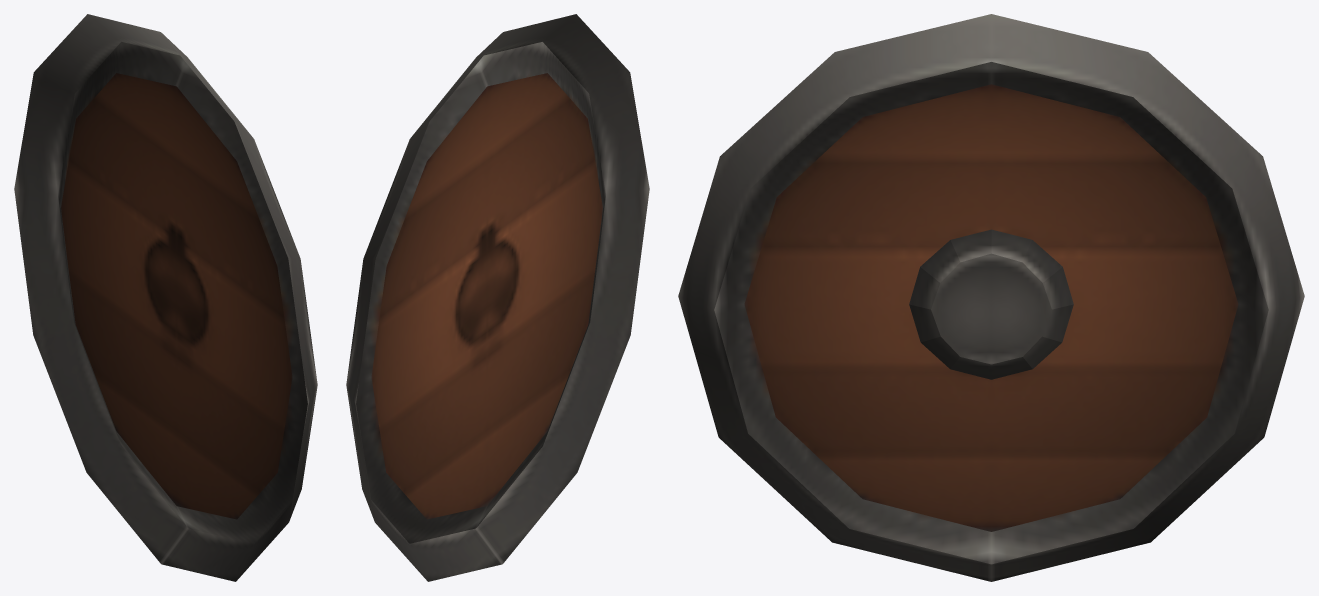
File: A_CA_GEN_Shield_01.fbx
3 renders of one model, left to right at view 1: azimuth 30°, elevation 25°; view 2: azimuth 150°, elevation 25°; view 3: azimuth 270°, elevation 25°, orthographic. The views are drawn at different scales.
Visible parts, largest first — view 1: A_CA_GEN_Shield_01; view 2: A_CA_GEN_Shield_01; view 3: A_CA_GEN_Shield_01.
Part boxes in pixels (box(x1,y1,x2,y2)): A_CA_GEN_Shield_01: box(14, 14, 317, 581); A_CA_GEN_Shield_01: box(346, 14, 649, 581); A_CA_GEN_Shield_01: box(678, 14, 1304, 581).
Size of the model in its own units: 19.07 by 362 by 362.
1 material, 1 textured.
